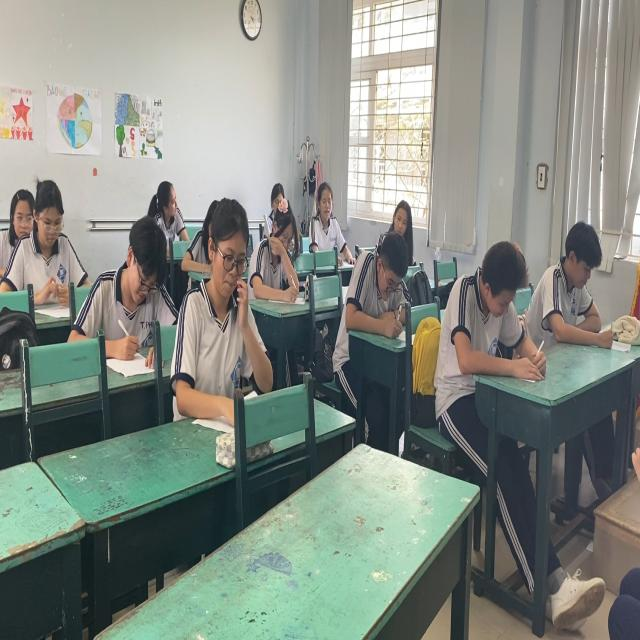not_cheating: (178, 202, 264, 410), (441, 231, 536, 366), (81, 217, 168, 355), (0, 172, 83, 313), (536, 206, 616, 341), (244, 179, 303, 299), (346, 237, 421, 327), (310, 179, 350, 251), (149, 182, 194, 241), (388, 190, 421, 241)
